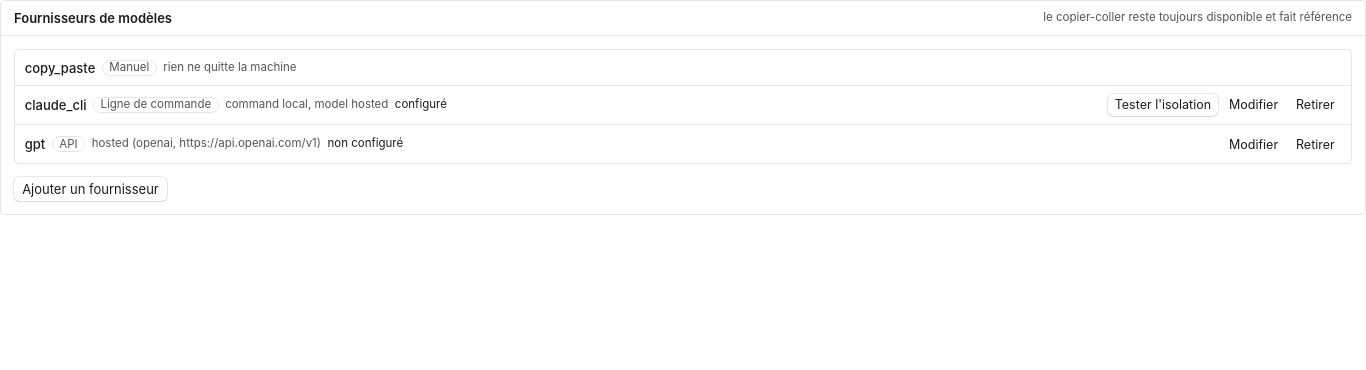
Test: model providers › reports a failed probe with what the model said
Expected: the text "claude_cli" is shown, [25,96,86,114]
Click the button with aria-label "Tester claude_cli" at (1163, 105), box [1108,94,1218,116]
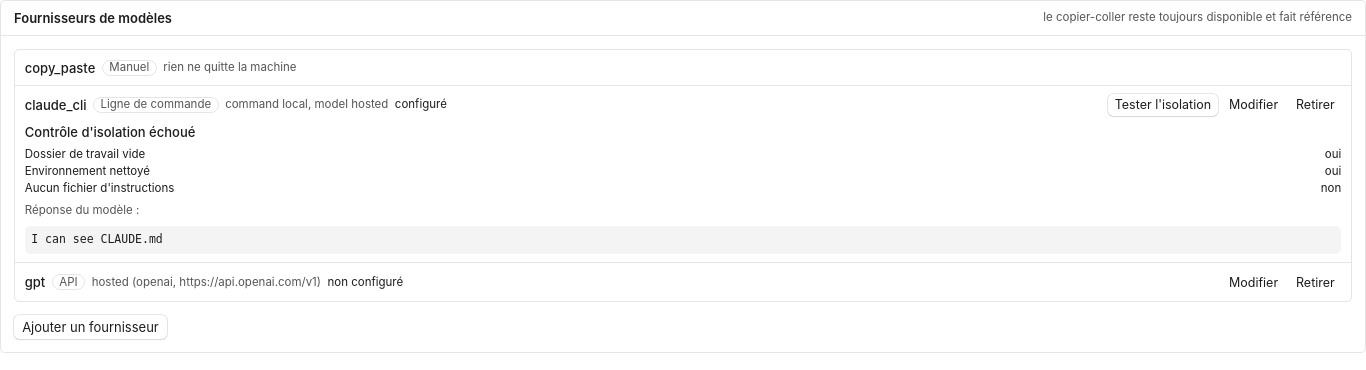
Result: the text "Contrôle d'isolation échoué" is shown at [25,124,195,140]
Result: the text "I can see CLAUDE.md" is shown at [25,226,1341,254]
